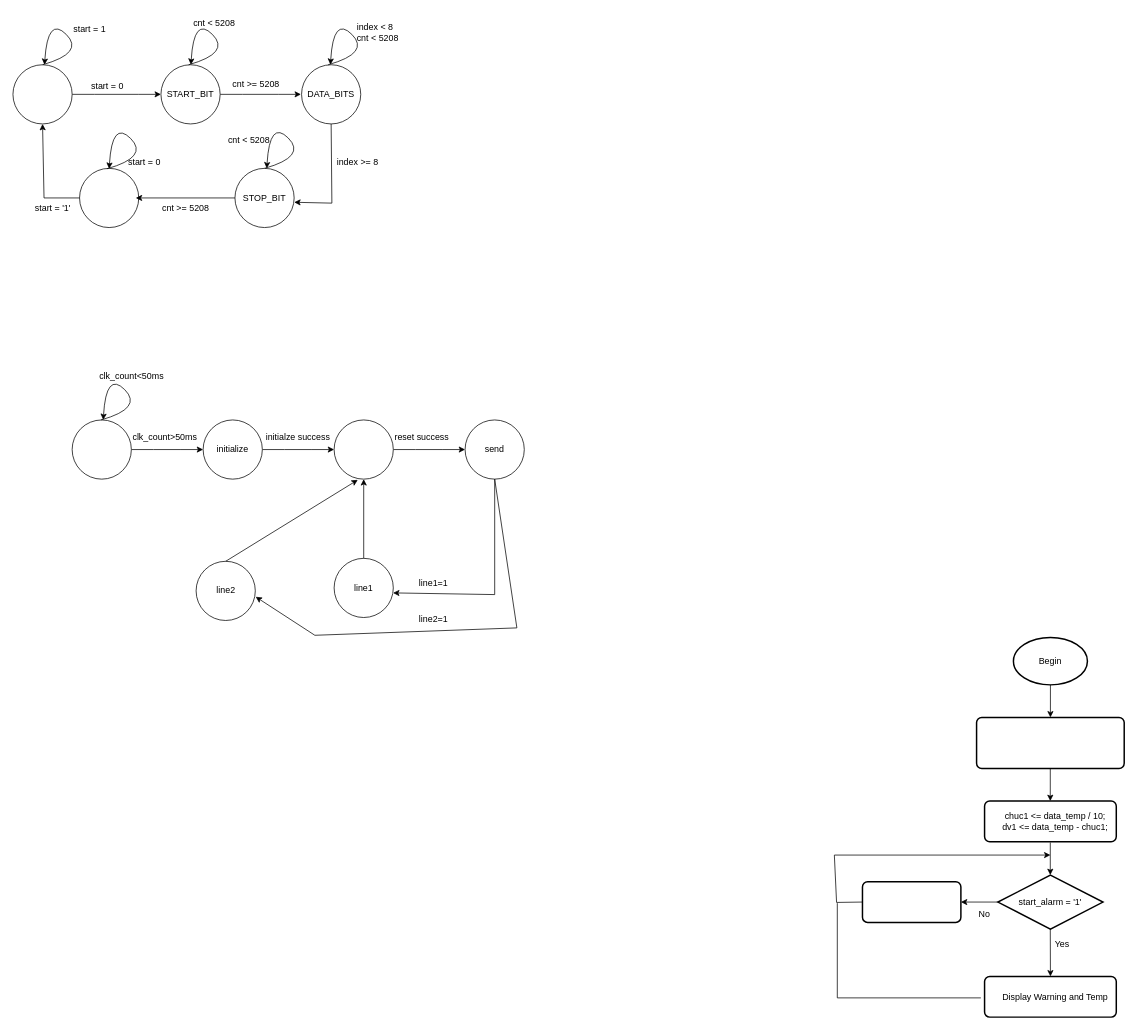
This 1138x1031 diagram has some shape labels left out. Here are the shapes that lost their labels. From the top down, the centre of each, then its label:
At (42,94): "IDLE".
At (109,198): "STOP".
At (101,449): "power_up".
At (363,449): "RESETLINE".
At (1050,742): "assign data to line1_buffer assign data to line2_buffer".
At (911,902): "Display Only Temp".
